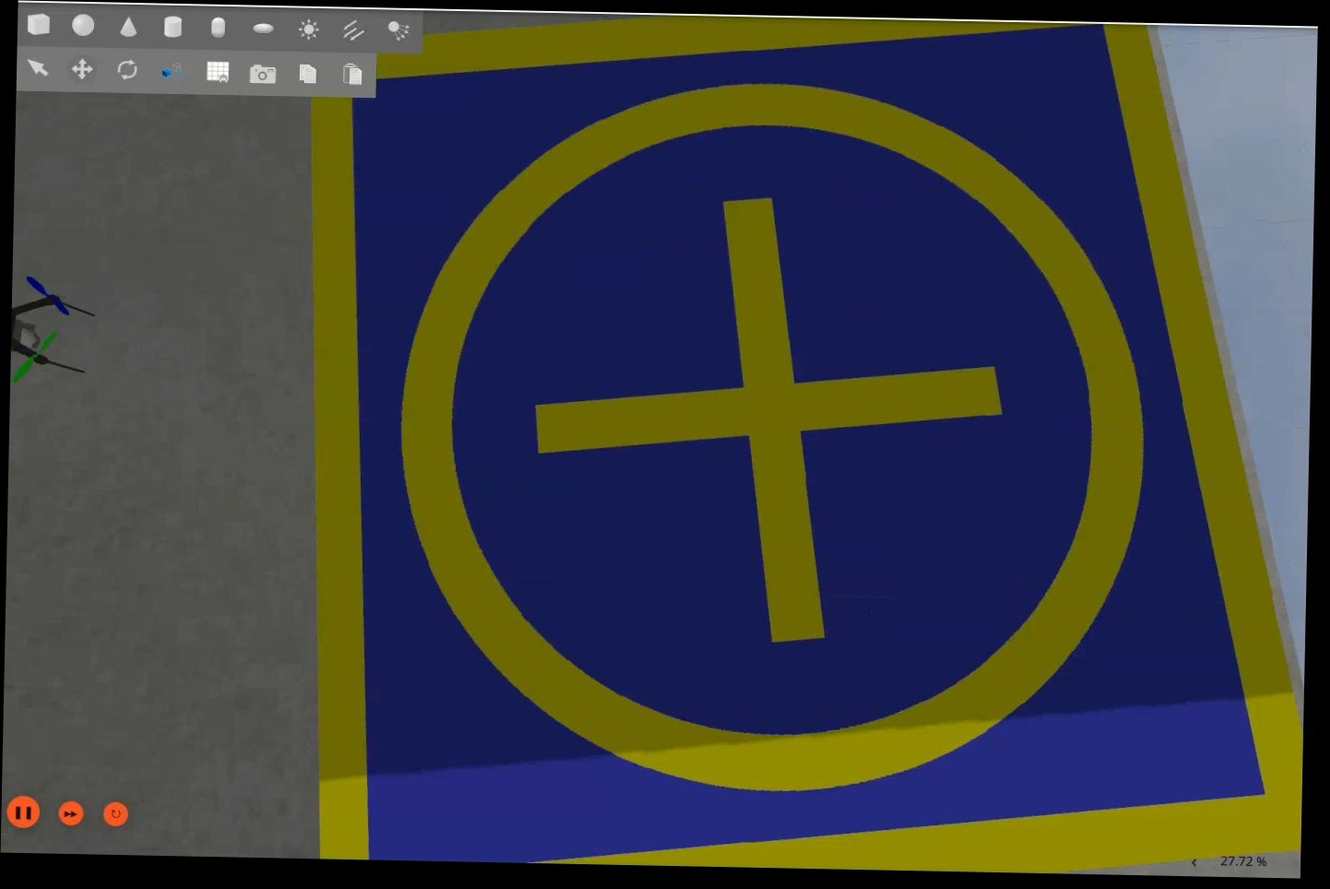small_base: (291, 7, 1321, 881)
